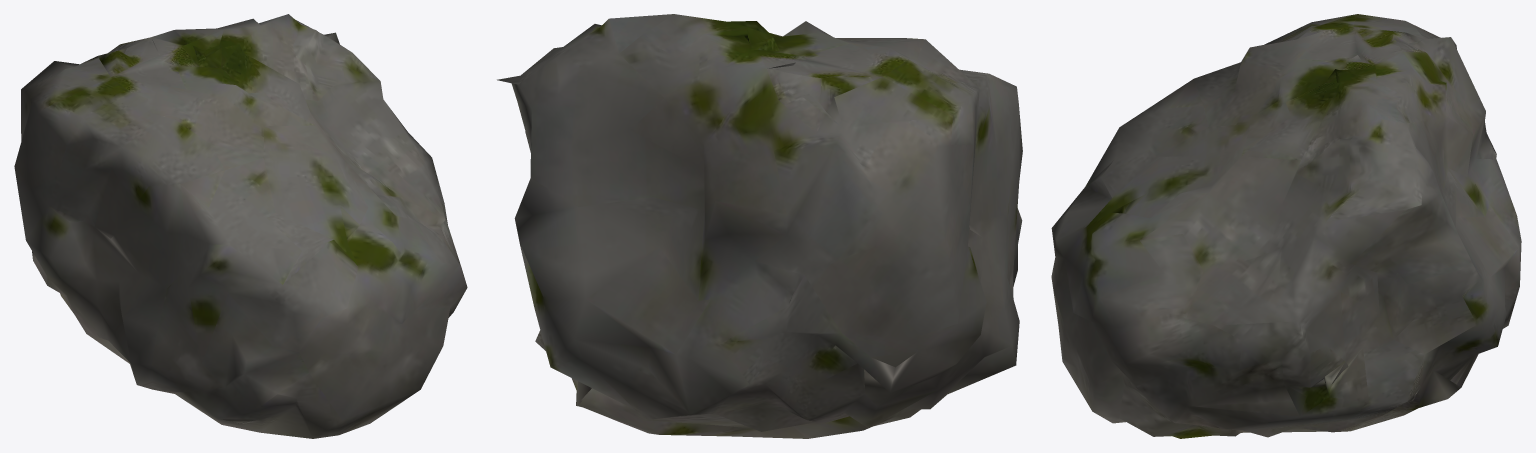
The model's file is rock.glb.
3 views of the same model, side by side, from view 1: azimuth 30°, elevation 25°; view 2: azimuth 150°, elevation 25°; view 3: azimuth 270°, elevation 25° (orthographic). The views are drawn at different scales.
Visible parts, largest first — view 1: tripo_node_0c9e8504-308c-4464-a36a-043ac28d0bae; view 2: tripo_node_0c9e8504-308c-4464-a36a-043ac28d0bae; view 3: tripo_node_0c9e8504-308c-4464-a36a-043ac28d0bae.
Part boxes in pixels (box(x1,y1,x2,y2)): tripo_node_0c9e8504-308c-4464-a36a-043ac28d0bae: box(14, 14, 467, 438); tripo_node_0c9e8504-308c-4464-a36a-043ac28d0bae: box(497, 14, 1022, 438); tripo_node_0c9e8504-308c-4464-a36a-043ac28d0bae: box(1051, 14, 1521, 438).
Size of the model in its own units: 0.959 by 0.7802 by 1.
Materials: 1 (1 with a texture image).
